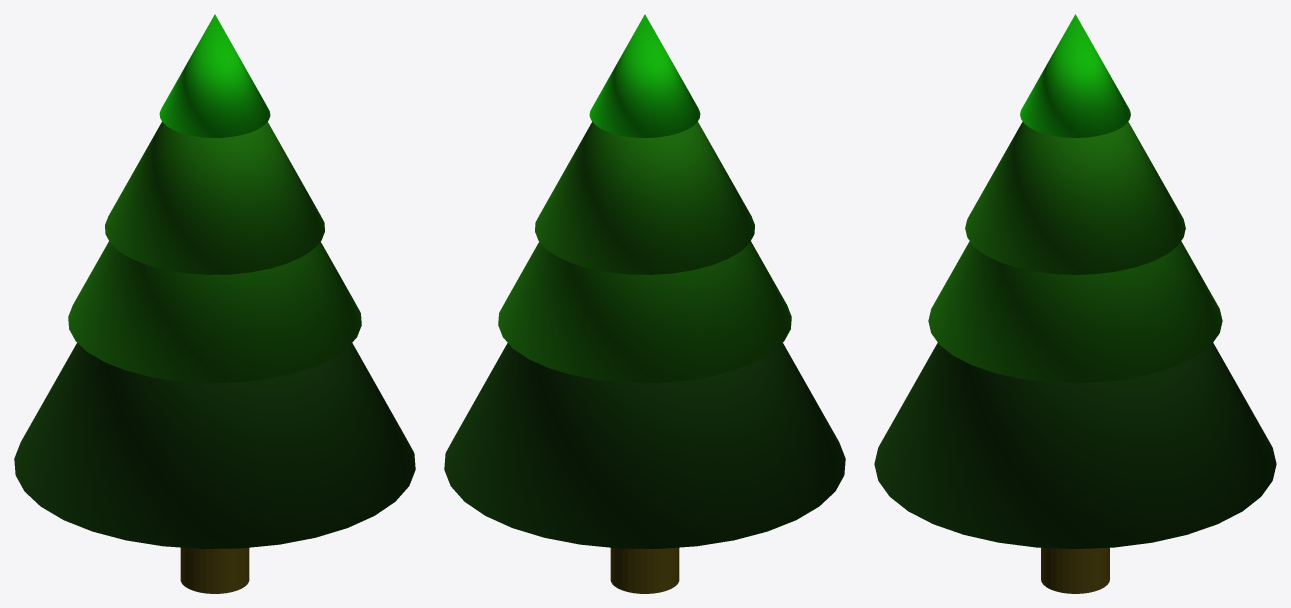
Rendered from tree.fbx.
3 renders of one model, left to right at view 1: azimuth 30°, elevation 25°; view 2: azimuth 150°, elevation 25°; view 3: azimuth 270°, elevation 25°, orthographic.
Parts seen in each view (by area): view 1: Cone, Cone.001, Cone.002, Cone.003, Cylinder; view 2: Cone, Cone.001, Cone.002, Cone.003, Cylinder; view 3: Cone, Cone.001, Cone.002, Cone.003, Cylinder.
Boxes of the visible parts, box(x1,y1,x2,y2) form: Cone: box(14, 342, 415, 548); Cone.001: box(68, 241, 361, 382); Cone.002: box(105, 122, 324, 274); Cone.003: box(159, 14, 270, 137); Cylinder: box(180, 547, 249, 593); Cone: box(444, 342, 845, 548); Cone.001: box(498, 241, 791, 382); Cone.002: box(535, 122, 754, 274); Cone.003: box(589, 14, 700, 137); Cylinder: box(610, 547, 679, 593); Cone: box(874, 342, 1276, 548); Cone.001: box(928, 241, 1222, 383); Cone.002: box(965, 121, 1185, 274); Cone.003: box(1020, 14, 1130, 137); Cylinder: box(1041, 547, 1109, 593).
Bounding box in the file's own units: 1165 × 1807 × 1165.
